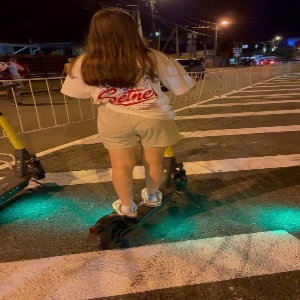human on a scooter: (58, 6, 196, 255)
